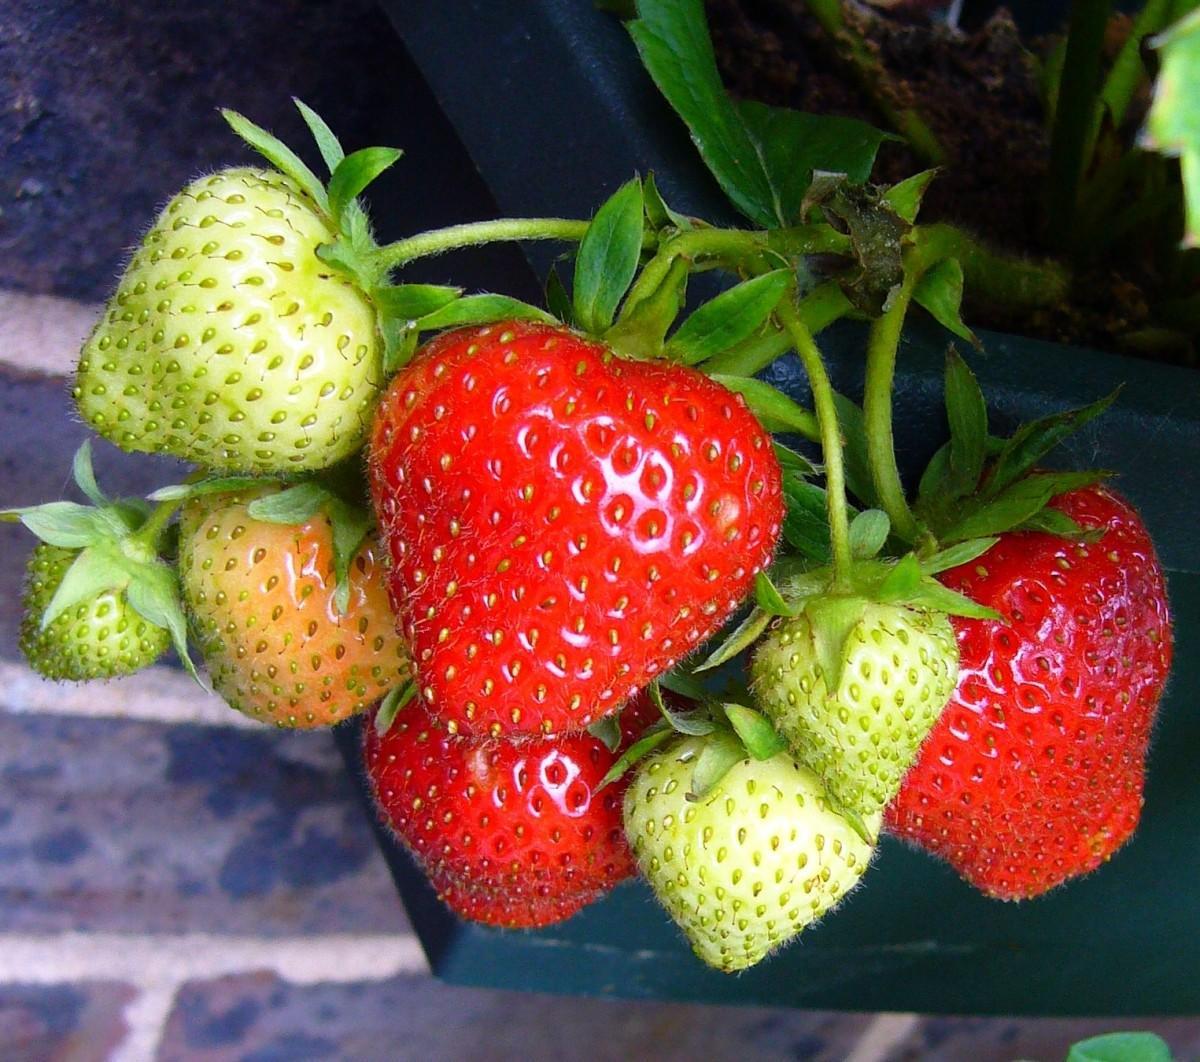strawberry: (368, 211, 796, 740), (72, 101, 378, 481), (902, 482, 1158, 901), (360, 697, 652, 951)
